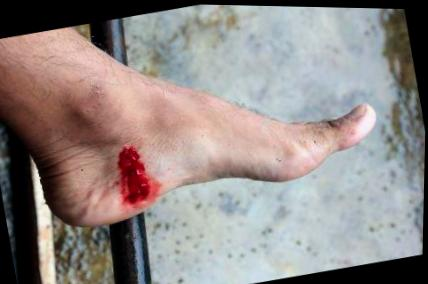Fire: (119, 146, 151, 202)
